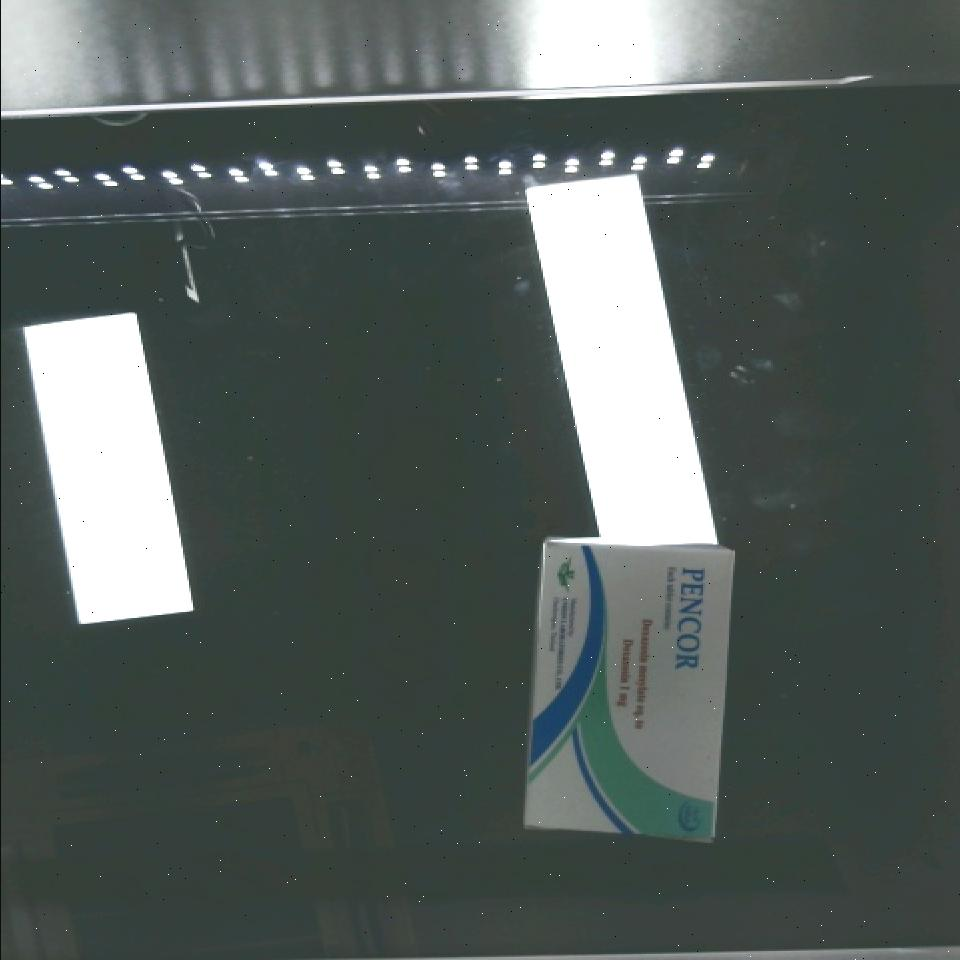medicine_box: (526, 535, 735, 843)
medicine_label_obb: (665, 548, 737, 685)
